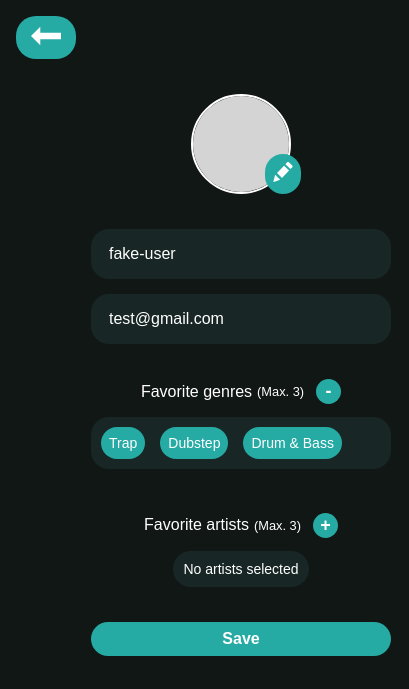
it: EditProfileComponent › Affichage de la page d'édition du profil › Saisie dans le formulaire › devrait afficher une erreur lors de la saisie test.com dans le champs
This screenshot has width=409, height=689.
Clear the field with test id "edit-profile-input-email": (241, 319) [91,294,391,344]
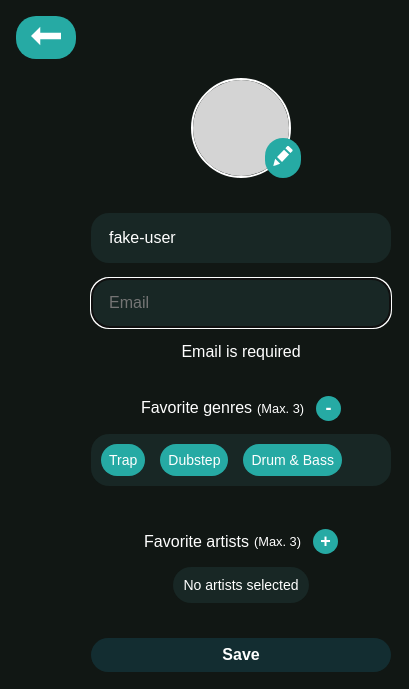
In the field with test id "edit-profile-input-email": (241, 303) [91,278,391,328], type "test.com"
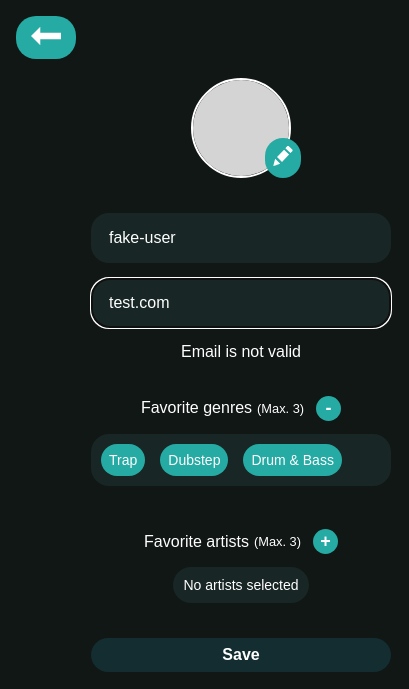
Now the text "Email is not valid" is shown, box [181,343,301,361]
Now the text with test id "edit-profile-error-text-email" reads "Email is not valid", box [181,343,301,360]
